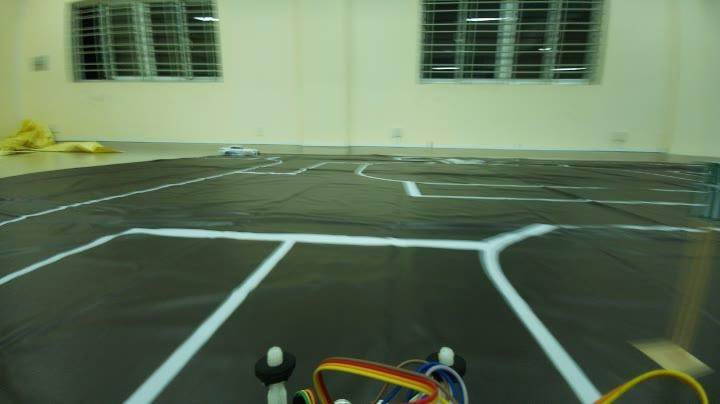highway_entry: (694, 161, 720, 227)
